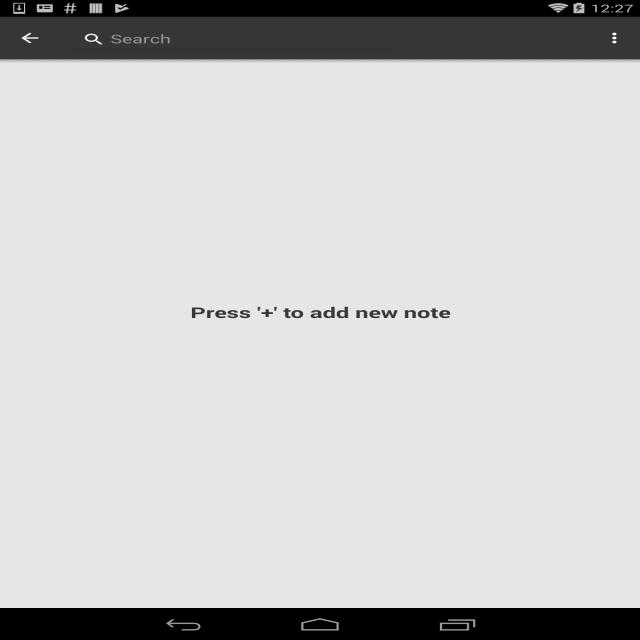EditText: (68, 26, 393, 50)
ImageButton: (0, 19, 60, 57)
ImageView: (589, 22, 640, 54)
TextView: (9, 302, 632, 322)
